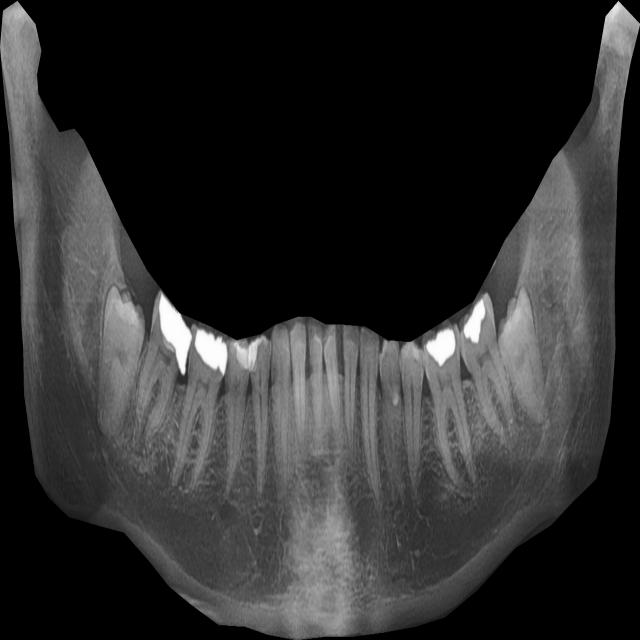mandibula: (0, 1, 640, 640)
